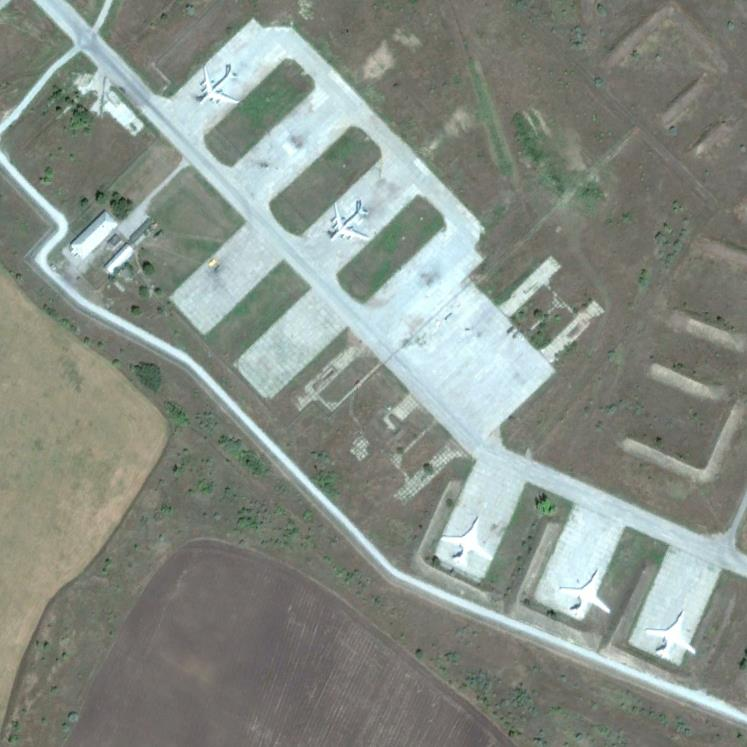A17: (197, 62, 242, 108), (329, 201, 373, 245)
A6: (438, 512, 494, 569), (556, 565, 612, 620), (645, 610, 697, 661)
